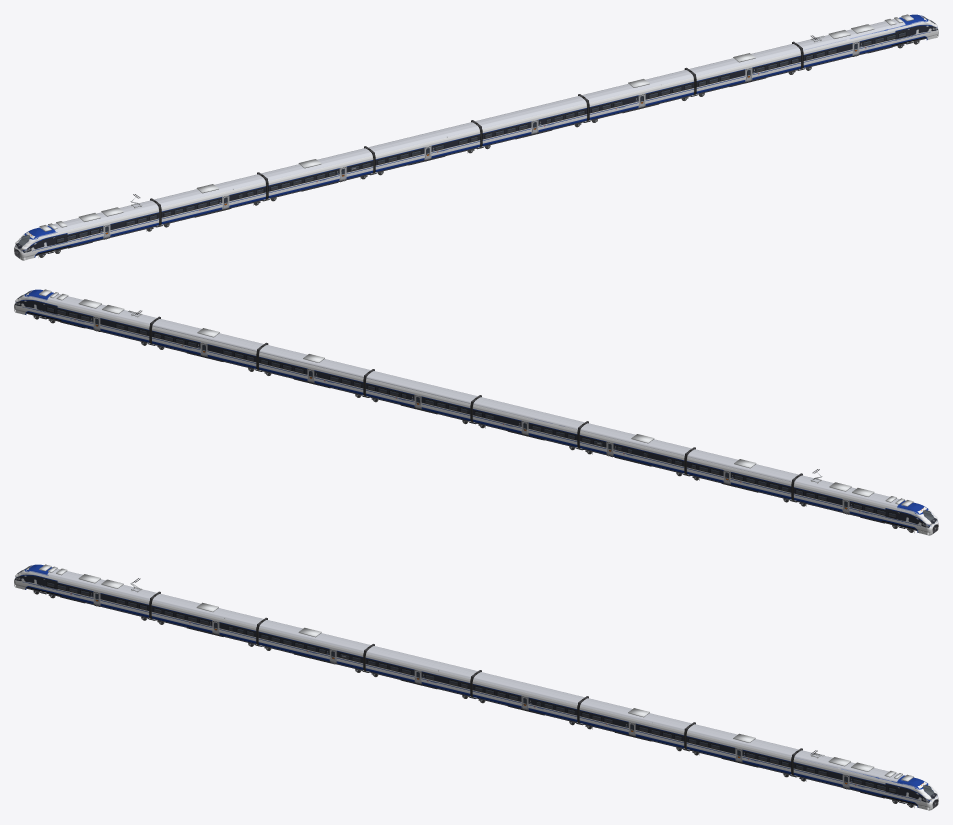
The model's file is DART_stary_1911.glb.
3 renders of one model, top to bottom at view 1: azimuth 30°, elevation 25°; view 2: azimuth 150°, elevation 25°; view 3: azimuth 330°, elevation 25°, orthographic.
Parts seen in each view (by area): view 1: DA_czlon1, DA_czlon8, DA_czlon5, DA_czlon4, DA_czlon2, DA_czlon7, DA_czlon6, DA_czlon3, DA_guma, DA_rama, DA_dach; view 2: DA_czlon1, DA_czlon8, DA_czlon5, DA_czlon4, DA_czlon2, DA_czlon7, DA_czlon6, DA_czlon3, DA_guma, DA_rama, DA_dach; view 3: DA_czlon8, DA_czlon1, DA_czlon5, DA_czlon4, DA_czlon6, DA_czlon3, DA_czlon2, DA_czlon7, DA_guma, DA_rama, DA_dach.
Part boxes in pixels (x1=…): DA_czlon1: x1=14, y1=200, x2=159, y2=257; DA_czlon8: x1=796, y1=14, x2=938, y2=67; DA_czlon5: x1=475, y1=96, x2=587, y2=145; DA_czlon4: x1=368, y1=122, x2=480, y2=172; DA_czlon2: x1=154, y1=174, x2=266, y2=224; DA_czlon7: x1=689, y1=44, x2=801, y2=93; DA_czlon6: x1=582, y1=70, x2=694, y2=119; DA_czlon3: x1=261, y1=148, x2=373, y2=198; DA_guma: x1=56, y1=32, x2=906, y2=242; DA_rama: x1=36, y1=38, x2=926, y2=255; DA_dach: x1=39, y1=14, x2=913, y2=231; DA_czlon1: x1=793, y1=475, x2=938, y2=532; DA_czlon8: x1=14, y1=289, x2=156, y2=342; DA_czlon5: x1=365, y1=371, x2=477, y2=420; DA_czlon4: x1=472, y1=397, x2=584, y2=447; DA_czlon2: x1=686, y1=449, x2=798, y2=499; DA_czlon7: x1=151, y1=319, x2=263, y2=368; DA_czlon6: x1=258, y1=345, x2=370, y2=394; DA_czlon3: x1=579, y1=423, x2=691, y2=473; DA_guma: x1=46, y1=307, x2=896, y2=517; DA_rama: x1=26, y1=313, x2=916, y2=530; DA_dach: x1=39, y1=289, x2=913, y2=506; DA_czlon8: x1=793, y1=750, x2=938, y2=807; DA_czlon1: x1=14, y1=564, x2=156, y2=617; DA_czlon5: x1=472, y1=672, x2=584, y2=721; DA_czlon4: x1=365, y1=646, x2=477, y2=695; DA_czlon6: x1=579, y1=698, x2=691, y2=748; DA_czlon3: x1=258, y1=620, x2=370, y2=669; DA_czlon2: x1=151, y1=593, x2=263, y2=643; DA_czlon7: x1=686, y1=724, x2=798, y2=774; DA_guma: x1=46, y1=582, x2=896, y2=792; DA_rama: x1=26, y1=588, x2=916, y2=805; DA_dach: x1=39, y1=564, x2=913, y2=781.
Size of the model in its own units: 150 by 5.6 by 2.96.
Materials: 31 (9 with a texture image).
